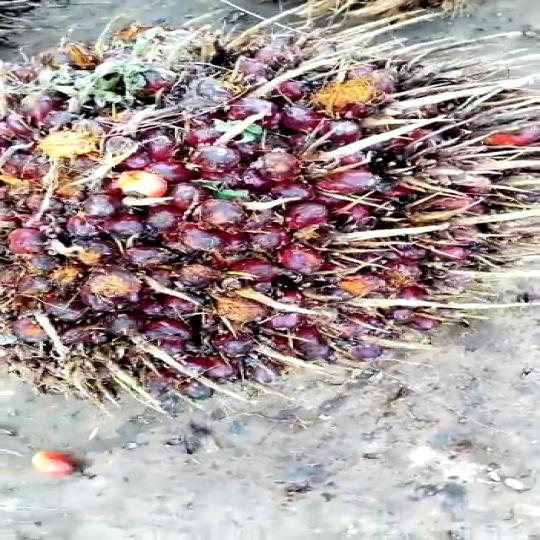masak: (0, 26, 540, 400)
